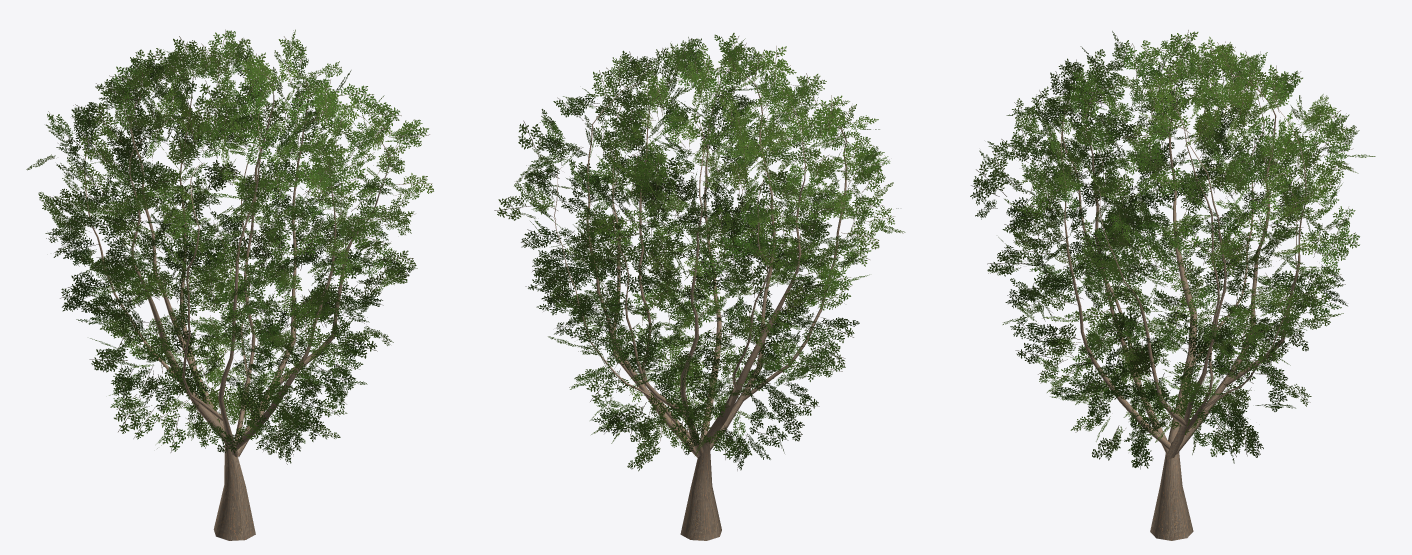
File: keyaki_lod1.glb
The picture shows the model from 3 angles, left to right: view 1: azimuth 30°, elevation 25°; view 2: azimuth 150°, elevation 25°; view 3: azimuth 270°, elevation 25°; orthographic projection.
Parts seen in each view (by area): view 1: keyaki_lod1_leaves, keyaki_lod1_bark; view 2: keyaki_lod1_leaves, keyaki_lod1_bark; view 3: keyaki_lod1_leaves, keyaki_lod1_bark.
Boxes of the visible parts, bbox=[...] form: keyaki_lod1_leaves: bbox=[26, 29, 433, 464]; keyaki_lod1_bark: bbox=[83, 66, 389, 540]; keyaki_lod1_leaves: bbox=[494, 33, 905, 471]; keyaki_lod1_bark: bbox=[554, 64, 847, 540]; keyaki_lod1_leaves: bbox=[970, 30, 1375, 469]; keyaki_lod1_bark: bbox=[1061, 59, 1306, 540].
Size of the model in its own units: 15.03 by 19.29 by 15.87.
Materials: 2 (2 with a texture image).
